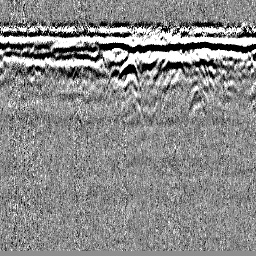cavity: (118, 53, 141, 88)
